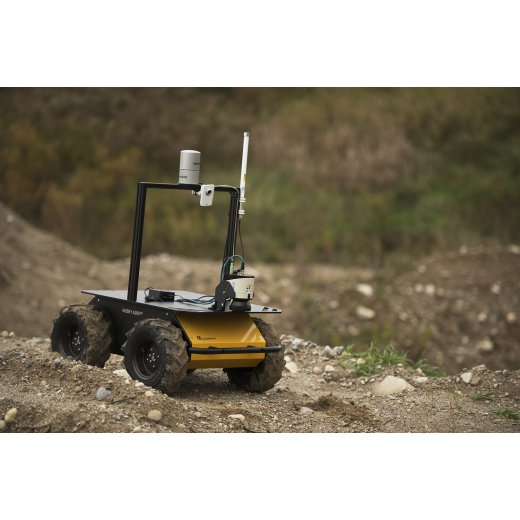husky: (48, 128, 286, 396)
